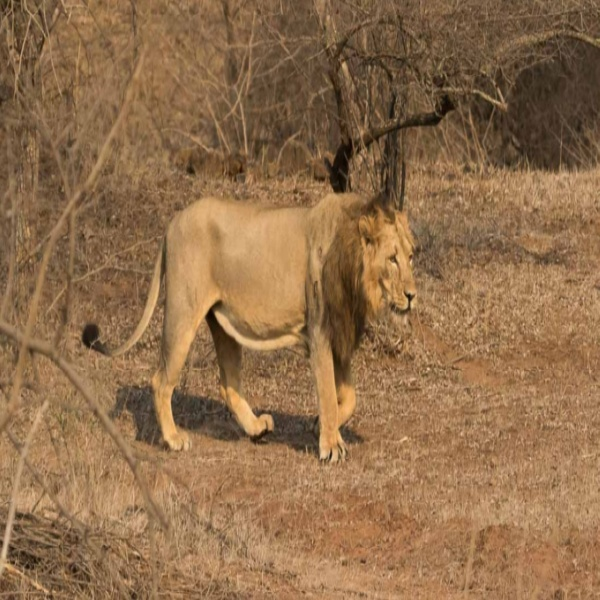Lion: (80, 193, 423, 467)
